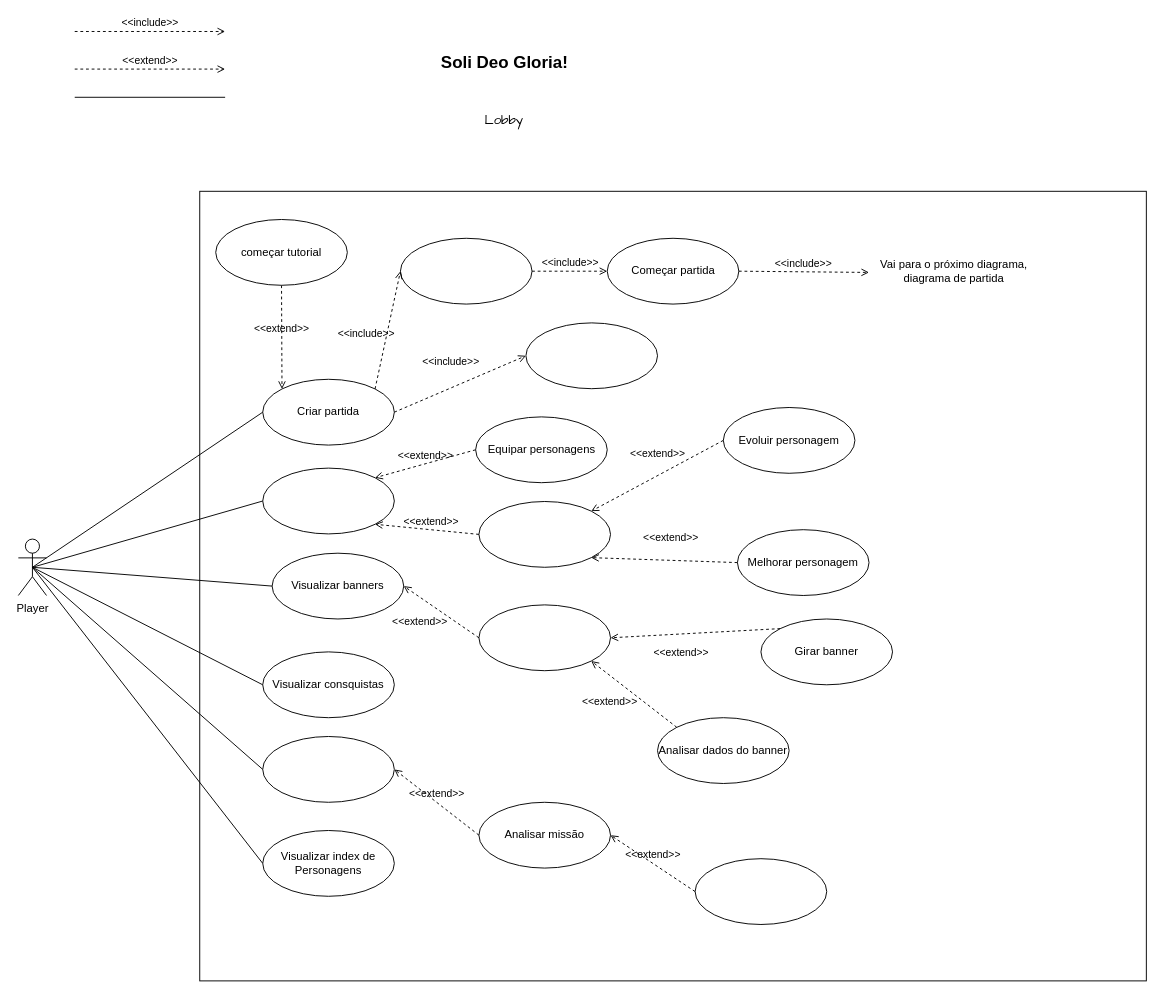
The diagram is 1163 pixels wide and 997 high, and some of its shapes have lost their labels. The shapes that lost their labels are listed below. From the top down, each one's centre as x and y in pixels, then its label:
At (466,270): "Escolher Mapa".
At (591,355): "Escolher modo".
At (328,500): "Visualizar invetário".
At (544,534): "Analisar personagem".
At (544,637): "Analisar banner".
At (328,769): "Visualizar missões".
At (760,891): "Aceitar missoes".
